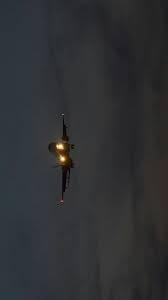Plane: (46, 105, 79, 211)
